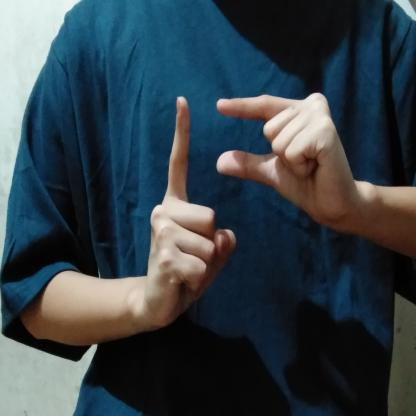daughter: (129, 85, 366, 343)
